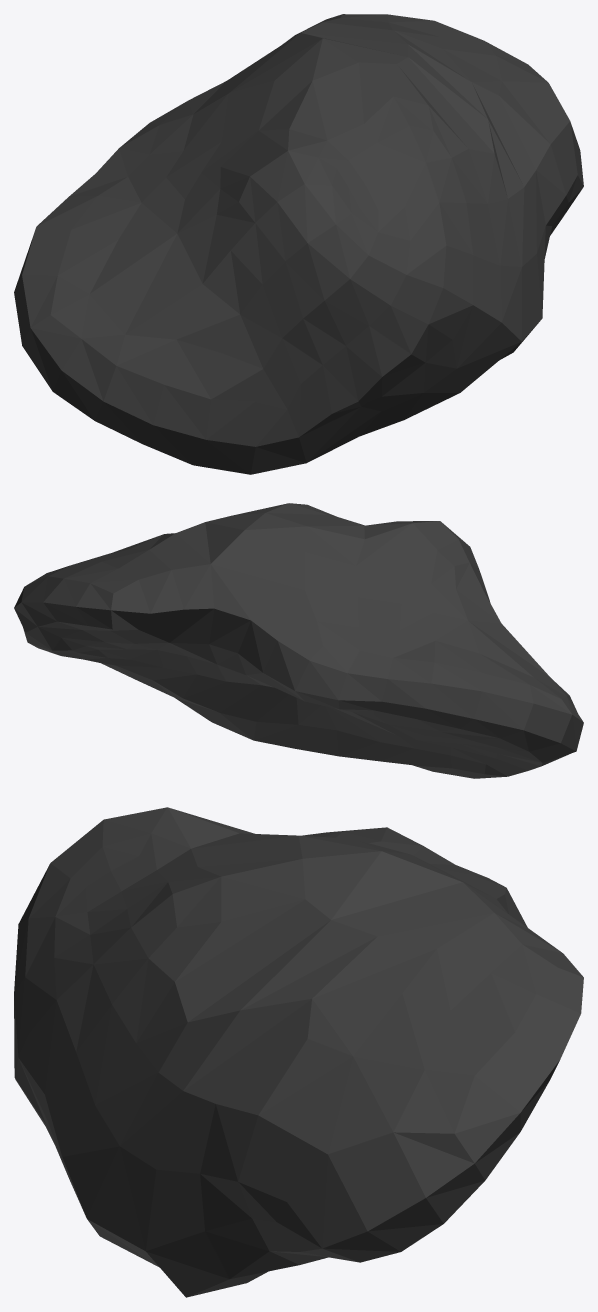
File: LHL_tibia1.glb
3 views of the same model, one above another, from view 1: azimuth 30°, elevation 25°; view 2: azimuth 150°, elevation 25°; view 3: azimuth 270°, elevation 25° (orthographic). The views are drawn at different scales.
Visible parts, largest first — view 1: LHL_tibia1; view 2: LHL_tibia1; view 3: LHL_tibia1.
Part boxes in pixels (x1=…): LHL_tibia1: x1=14, y1=14, x2=583, y2=474; LHL_tibia1: x1=14, y1=503, x2=583, y2=778; LHL_tibia1: x1=14, y1=807, x2=583, y2=1297.
Bounding box in the file's own units: 20.12 × 10.45 × 12.89.
Materials: 1 (1 with a texture image).
